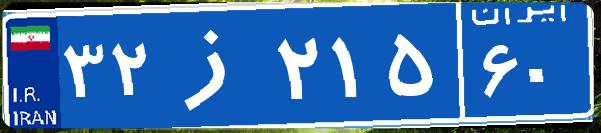0: (525, 38, 570, 115)
1: (330, 28, 385, 110)
2: (273, 28, 330, 110), (110, 28, 158, 105)
3: (57, 26, 110, 107)
5: (385, 28, 445, 110)
6: (475, 38, 525, 113)
ز: (158, 15, 273, 115)
